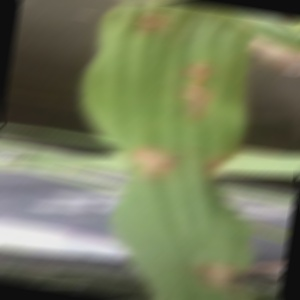Brown_Spot: (186, 256, 250, 297), (125, 139, 183, 184), (127, 6, 180, 46), (172, 82, 215, 120), (174, 56, 217, 83)
